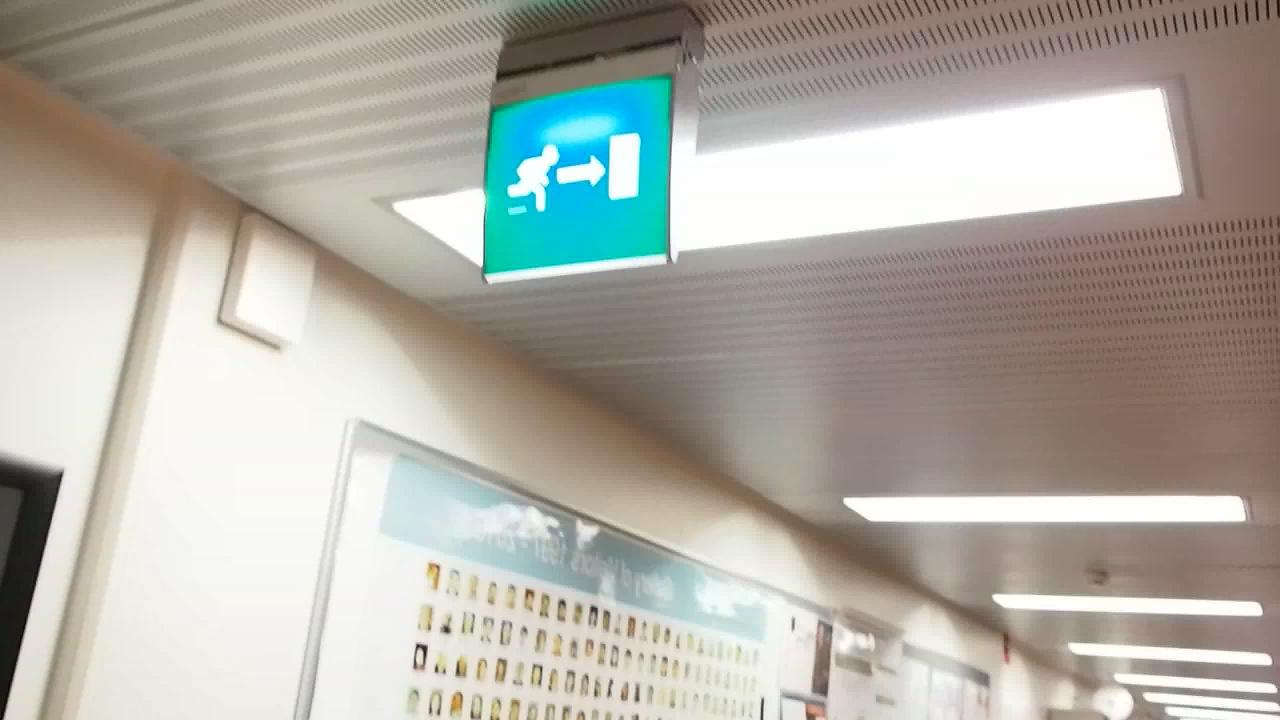exit: (480, 77, 678, 270)
